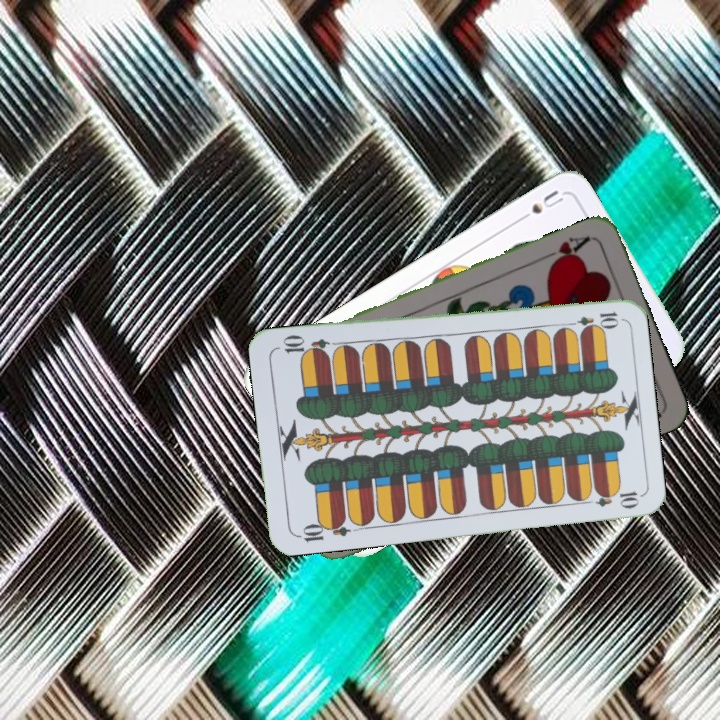E10: (293, 514, 352, 545), (562, 308, 621, 331)
HA: (538, 231, 593, 270)
SU: (512, 186, 566, 226)
